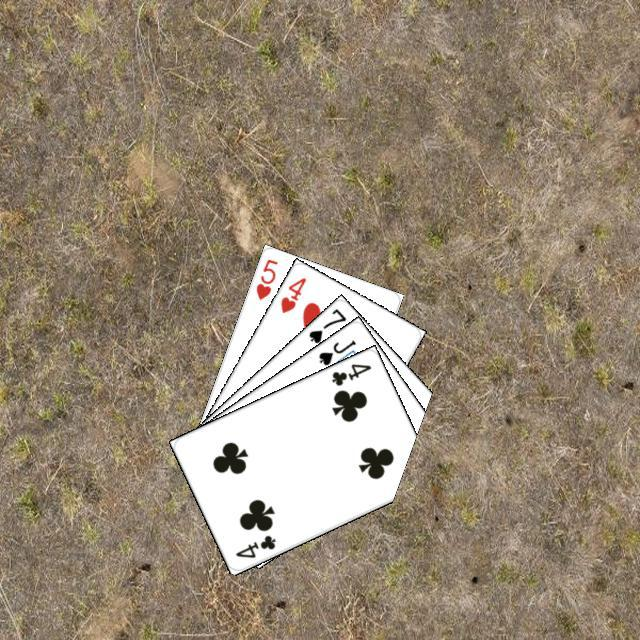4c: (230, 530, 277, 560), (326, 359, 373, 388)
4h: (275, 272, 308, 315)
5h: (251, 254, 279, 302)
7s: (303, 304, 348, 345)
Js: (314, 335, 357, 367)
